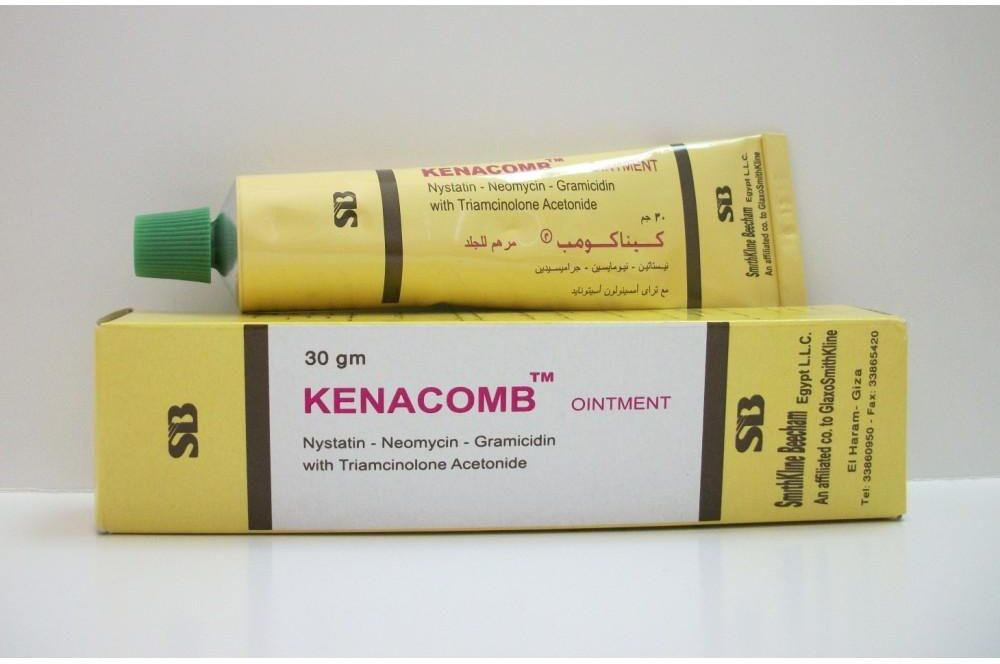Medicine: (82, 306, 916, 532), (114, 126, 826, 310)
